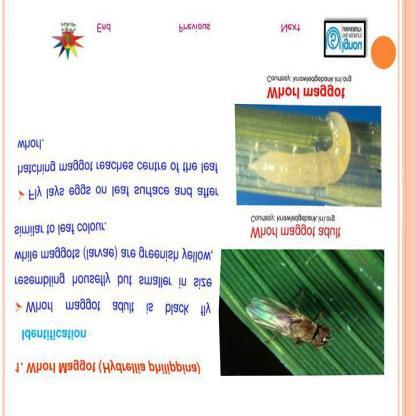whorl-maggot: (244, 109, 356, 198)
